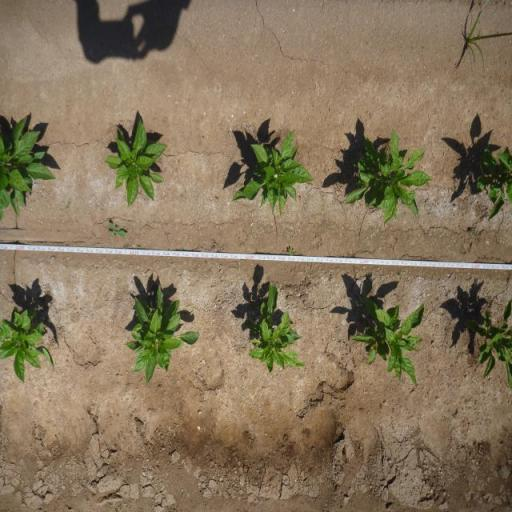plant: (339, 120, 435, 230), (120, 276, 206, 390), (226, 122, 316, 222), (347, 294, 430, 388), (100, 108, 170, 206), (0, 108, 58, 226), (248, 280, 310, 377), (0, 296, 59, 388), (473, 292, 512, 390), (475, 144, 512, 221)
weed: (456, 0, 512, 76), (106, 219, 130, 242), (285, 242, 296, 256), (63, 200, 71, 211)
